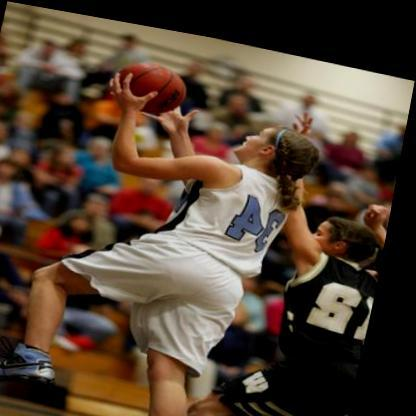basketball: (108, 51, 190, 114)
